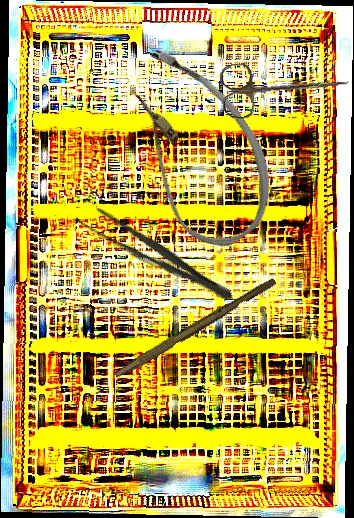Cannula: (91, 32, 299, 262)
Dressing Forceps: (72, 200, 240, 310)
Iris Scissors: (218, 52, 352, 121)
Scalpel Handle: (113, 273, 278, 384)
